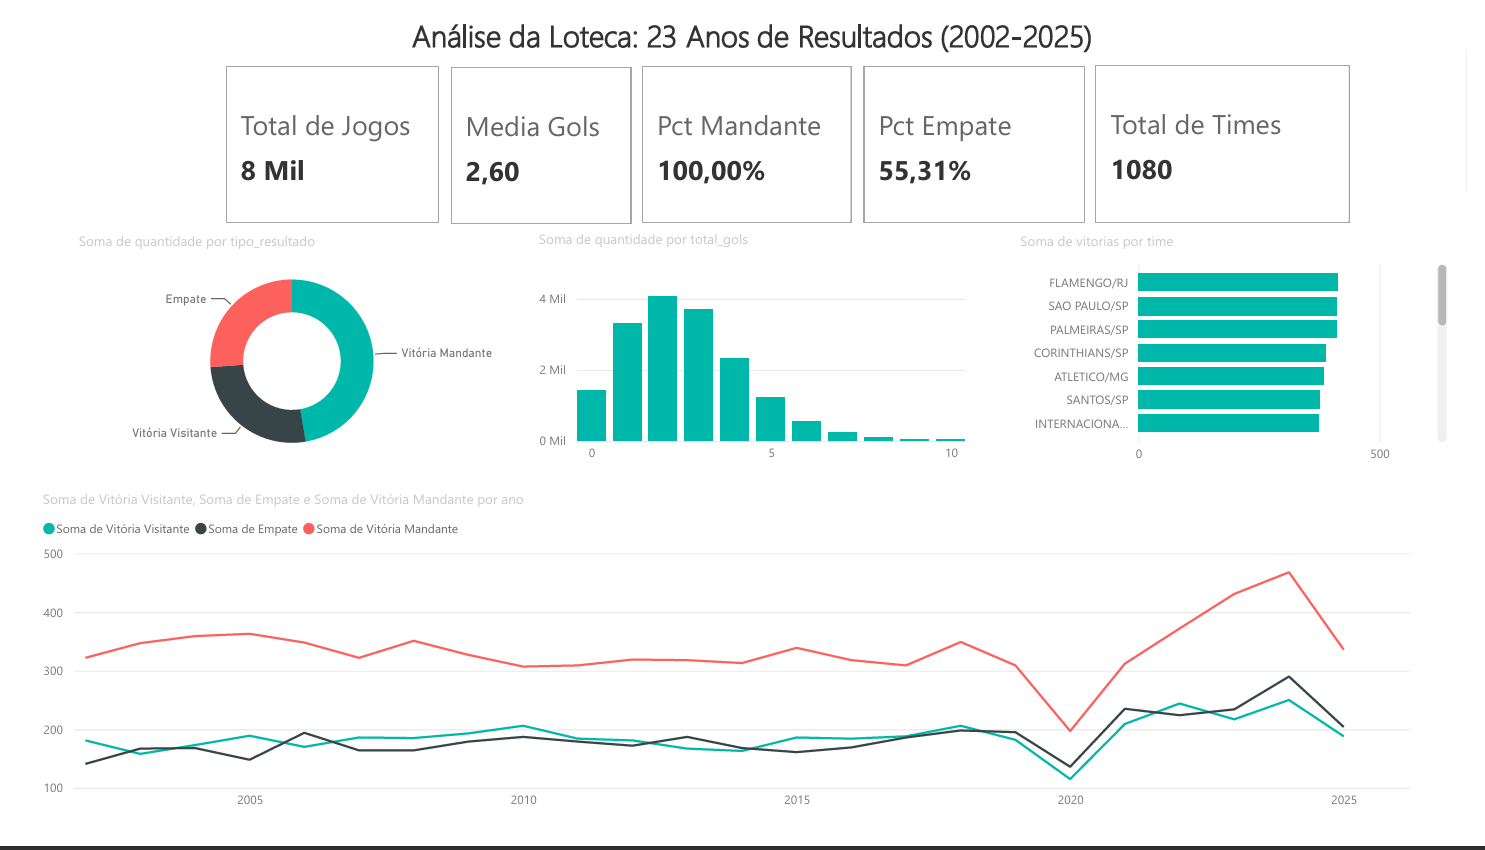

The page's visual inventory and layout, read from the dashboard file:
{"tool":"powerbi","page":{"name":"Página 1","canvas":[1280,720],"ordinal":0},"visuals":[{"type":"textbox","box":[9.6,0,1270.7,46.7],"z":0},{"type":"cardVisual","fields":{"Data":["_Medidas.Total de Jogos"]},"box":[172.4,46.5,199.3,149.2],"z":1},{"type":"cardVisual","fields":{"Data":["_Medidas.Media Gols"]},"box":[371.9,46.7,170.2,149.6],"z":2},{"type":"cardVisual","fields":{"Data":["_Medidas.Pct Mandante"]},"box":[541.7,46.5,196.9,149.2],"z":3},{"type":"cardVisual","fields":{"Data":["_Medidas.Pct Empate"]},"box":[738.6,46.5,206.7,149.2],"z":4},{"type":"cardVisual","fields":{"Data":["_Medidas.Total de Times"]},"box":[945.2,45.2,236,150.4],"z":5},{"type":"donutChart","fields":{"Category":["distribuicao_resultados.tipo_resultado"],"Y":["Sum(distribuicao_resultados.quantidade)"]},"box":[41.3,197.6,389,214.4],"z":6},{"type":"clusteredColumnChart","fields":{"Category":["distribuicao_gols.total_gols"],"Y":["Sum(distribuicao_gols.quantidade)"]},"box":[450.3,196,389,215.9],"z":7},{"type":"clusteredBarChart","fields":{"Category":["ranking_times.time"],"Y":["Sum(ranking_times.vitorias)"]},"box":[877.5,197.6,389,214.4],"z":8},{"type":"lineChart","fields":{"Category":["resultados_por_ano.ano"],"Y":["Sum(resultados_por_ano.Vitória Visitante)","Sum(resultados_por_ano.Empate)","Sum(resultados_por_ano.Vitória Mandante)"]},"box":[9.2,427.3,1226.7,292.5],"z":9}]}

Visuals, with their boxes in screenshot pixels (x1, y1, x2, y2), scaled from the page's 1280x720 canvas onto the 1485x850 screenshot:
textbox: detection(11, 0, 1484, 55)
cardVisual - _Medidas.Total de Jogos: detection(200, 55, 431, 231)
cardVisual - _Medidas.Media Gols: detection(431, 55, 629, 232)
cardVisual - _Medidas.Pct Mandante: detection(628, 55, 857, 231)
cardVisual - _Medidas.Pct Empate: detection(857, 55, 1097, 231)
cardVisual - _Medidas.Total de Times: detection(1097, 53, 1370, 231)
donutChart - distribuicao_resultados.tipo_resultado x Sum(distribuicao_resultados.quantidade): detection(48, 233, 499, 486)
clusteredColumnChart - distribuicao_gols.total_gols x Sum(distribuicao_gols.quantidade): detection(522, 231, 974, 486)
clusteredBarChart - ranking_times.time x Sum(ranking_times.vitorias): detection(1018, 233, 1469, 486)
lineChart - resultados_por_ano.ano x Sum(resultados_por_ano.Vitória Visitante): detection(11, 504, 1434, 849)
